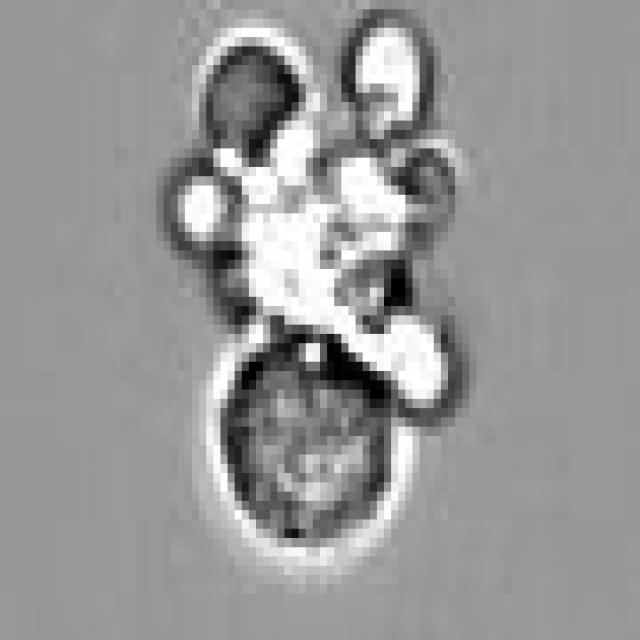Cancer Cell: (242, 93, 405, 324)
WBC: (221, 325, 391, 547)
